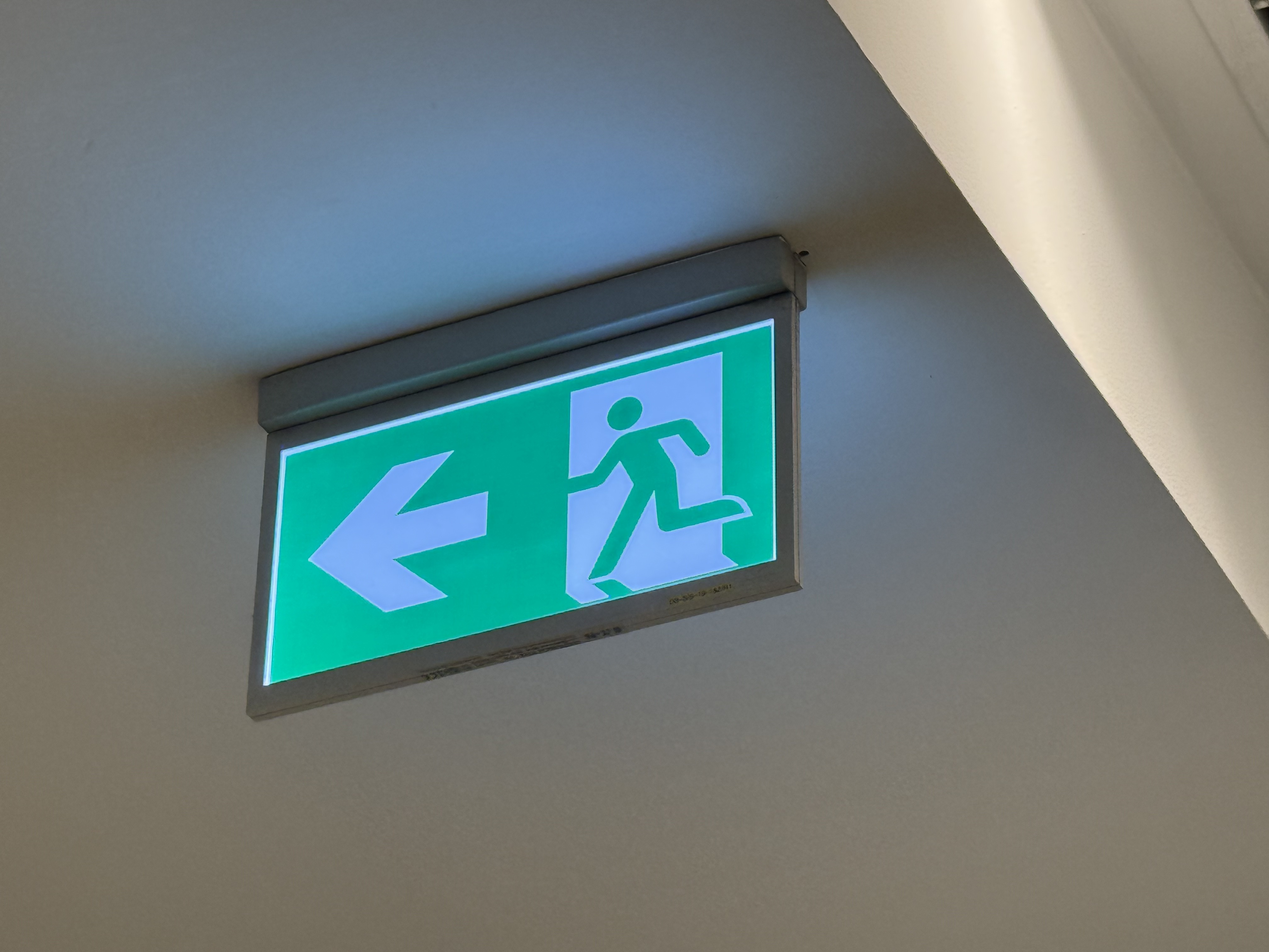emergency_exit: (244, 236, 809, 720), (245, 291, 805, 718)
